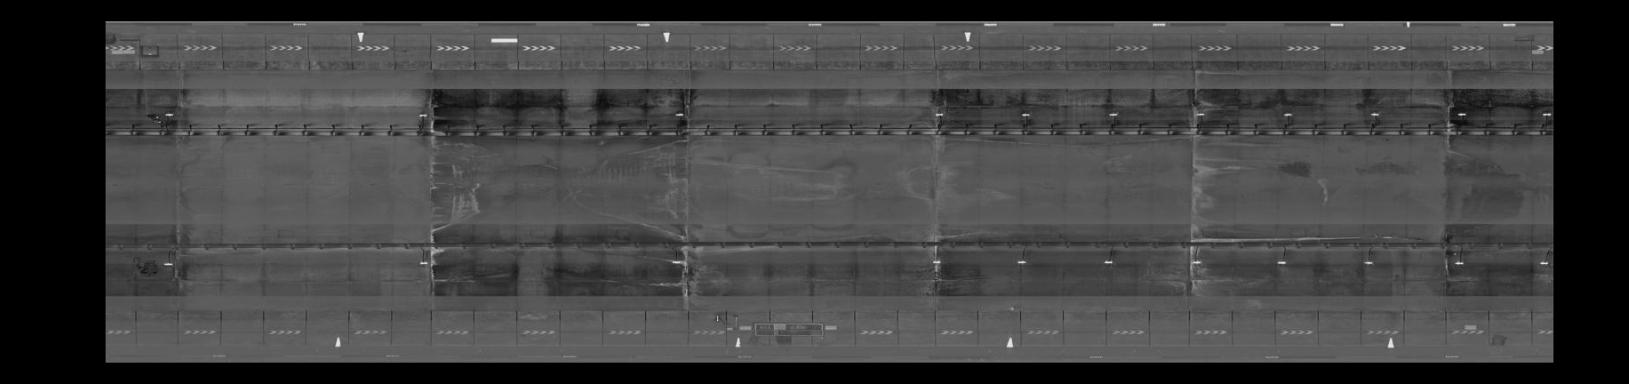light: (1019, 107, 1035, 120), (1190, 110, 1209, 120), (1358, 257, 1376, 269), (1363, 109, 1382, 119), (1013, 256, 1030, 268), (926, 257, 949, 266), (663, 257, 685, 266), (1277, 110, 1296, 119), (413, 258, 432, 268), (1452, 110, 1469, 120), (930, 110, 947, 119), (1447, 259, 1467, 268), (161, 109, 177, 119), (1104, 110, 1121, 119), (415, 111, 431, 120), (671, 109, 685, 120), (1187, 258, 1205, 267), (159, 260, 175, 270), (1535, 257, 1549, 268), (1540, 109, 1552, 119), (1101, 257, 1117, 266), (1273, 259, 1290, 266)
